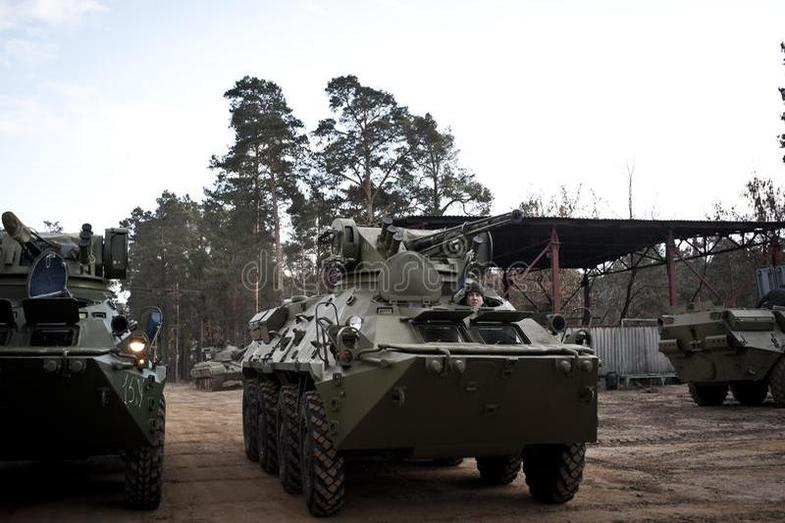btr: (251, 245, 599, 505)
